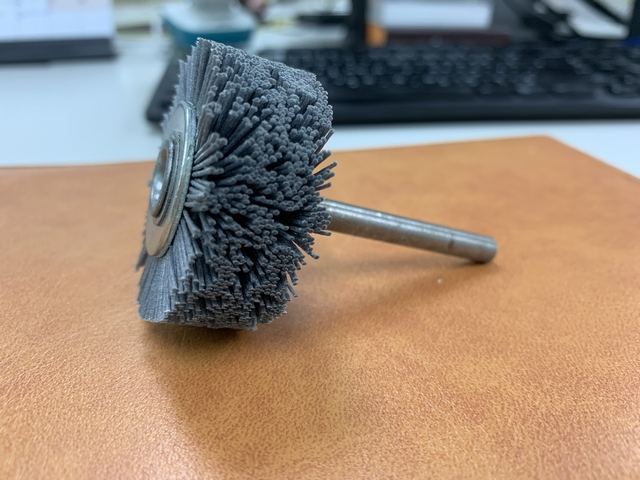Wheel Brush: (126, 40, 523, 336), (128, 64, 530, 314)
